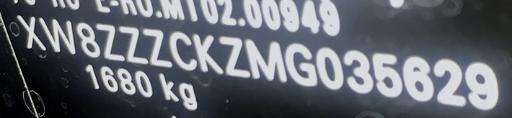letter: (242, 33, 292, 85), (430, 54, 468, 111), (461, 59, 501, 111), (36, 15, 80, 60), (216, 31, 254, 83), (400, 51, 436, 104), (371, 50, 407, 100), (313, 43, 349, 93), (342, 46, 378, 95), (282, 41, 318, 88), (116, 22, 152, 67), (140, 25, 176, 70), (192, 30, 224, 78), (164, 29, 200, 71), (94, 19, 128, 63), (14, 12, 48, 53), (74, 21, 102, 58)
